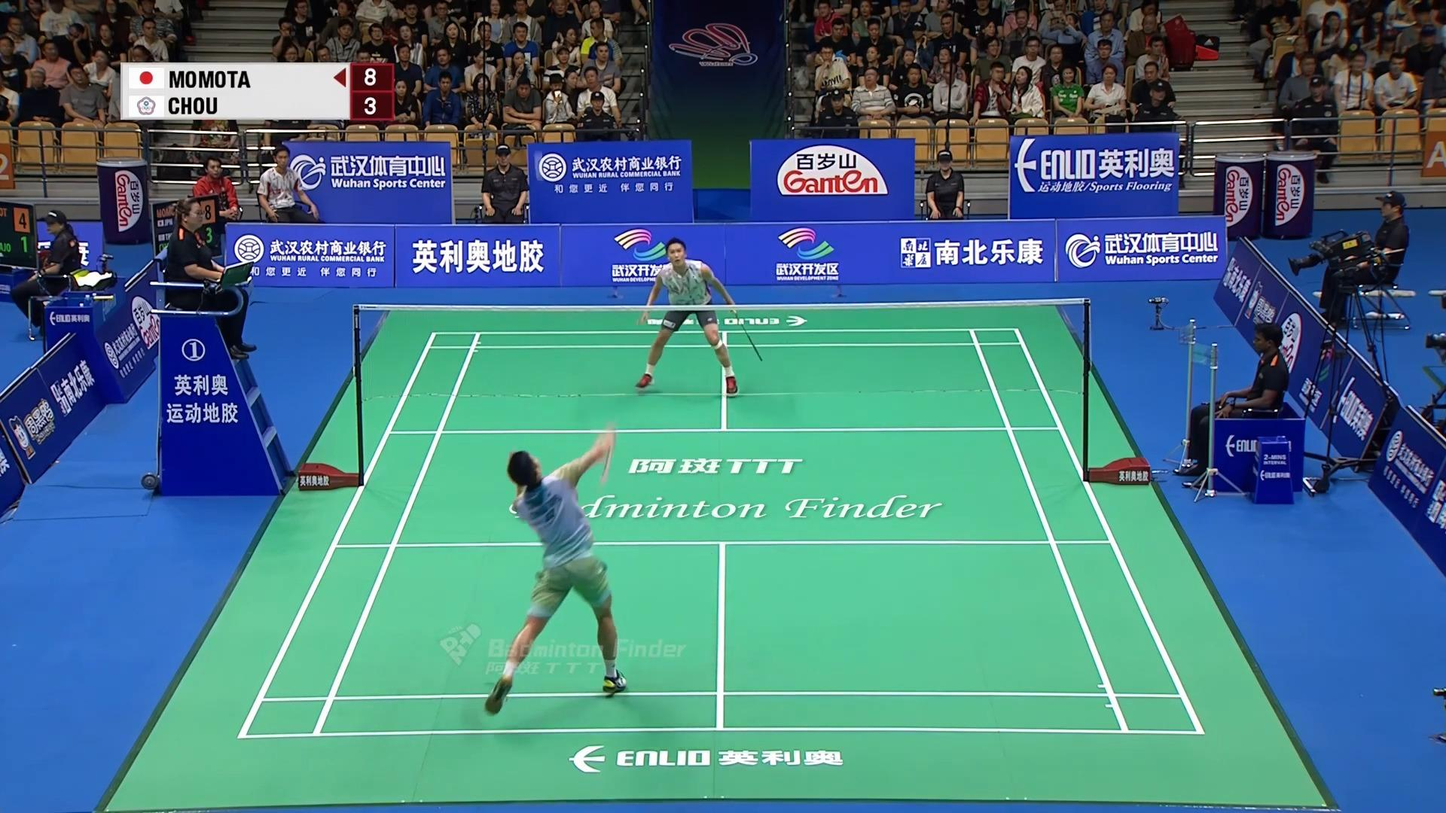player: (484, 423, 627, 714), (636, 236, 738, 396)
shuttlecock: (534, 150, 545, 184)
